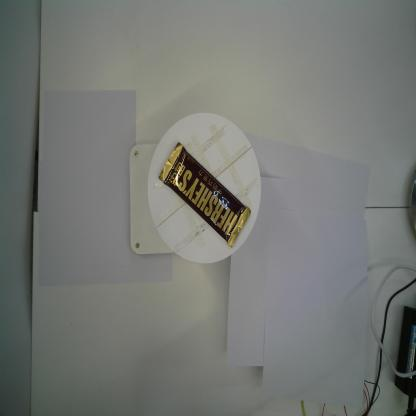Chocolate: (158, 141, 252, 249)
